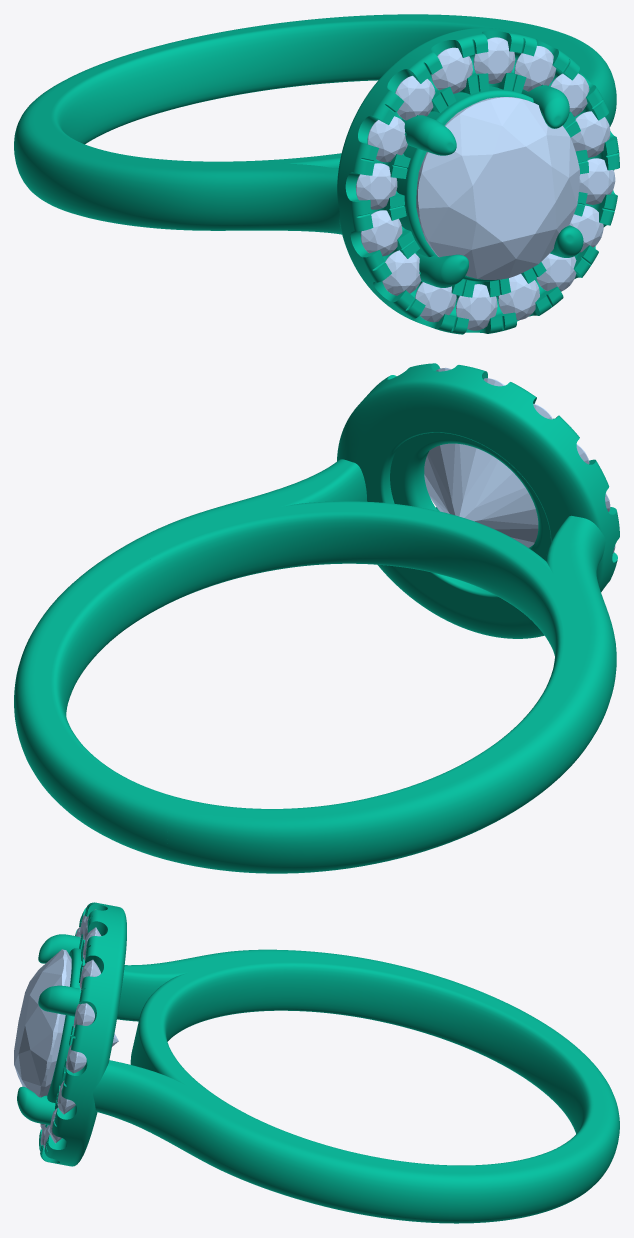
The picture shows the model from 3 angles, top to bottom: view 1: azimuth 30°, elevation 25°; view 2: azimuth 150°, elevation 25°; view 3: azimuth 270°, elevation 25°; orthographic projection. The views are drawn at different scales.
Parts seen in each view (by area): view 1: JTC-8322(base).3dm, Diamond_Round (×17); view 2: JTC-8322(base).3dm, Diamond_Round; view 3: JTC-8322(base).3dm, Diamond_Round.
Part boxes in pixels (x1,y1,x2,y2): JTC-8322(base).3dm: (14,14,619,334); Diamond_Round (×17): (356,37,615,330); JTC-8322(base).3dm: (14,363,619,873); Diamond_Round: (424,443,538,547); JTC-8322(base).3dm: (17,902,619,1223); Diamond_Round: (14,949,118,1097).
Bounding box in the file's own units: 2.47 × 1.26 × 2.88.
